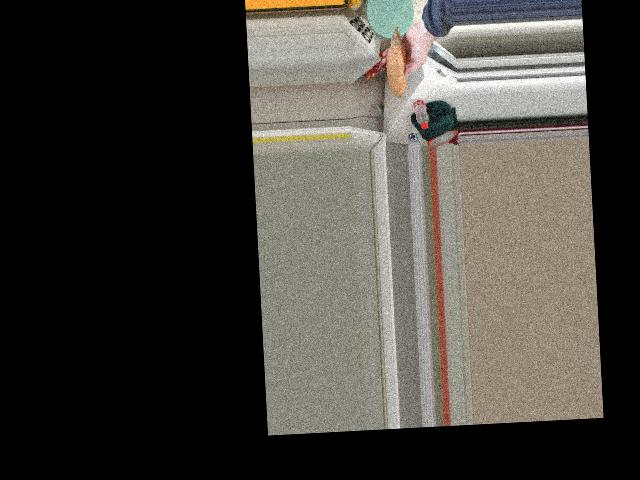sweet_potato: (388, 40, 412, 89)
